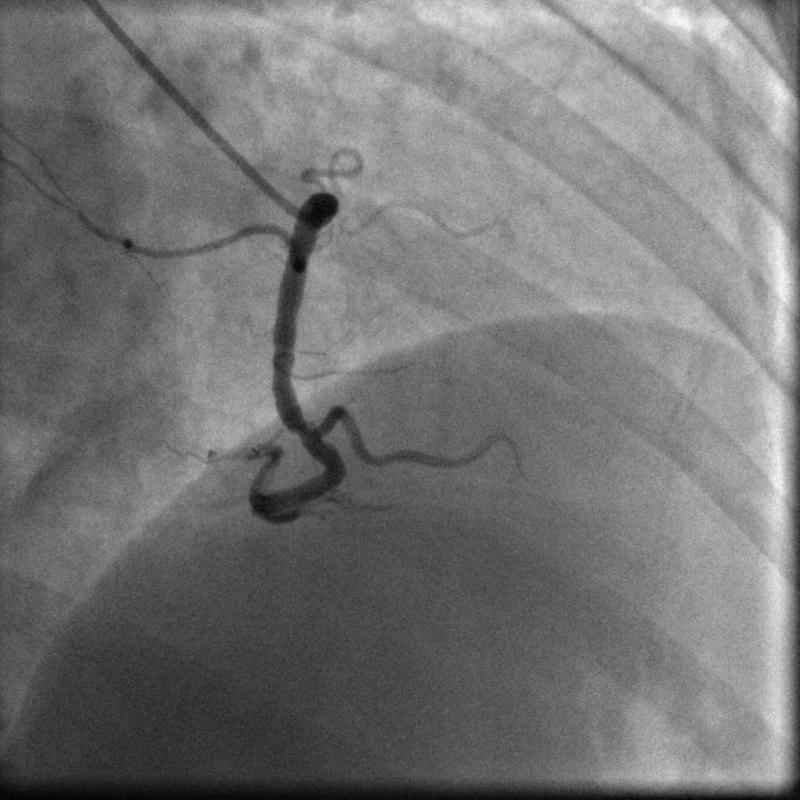Stenosis: (282, 417, 328, 444)
